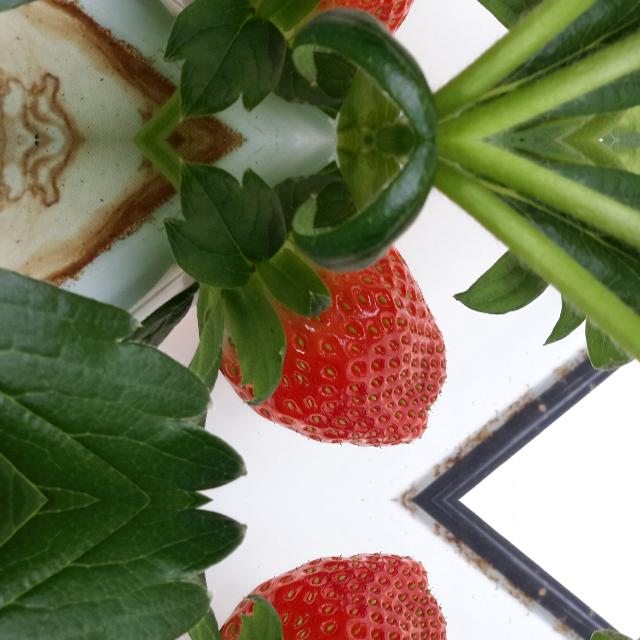Health_100: (219, 242, 447, 448), (219, 552, 447, 640)
